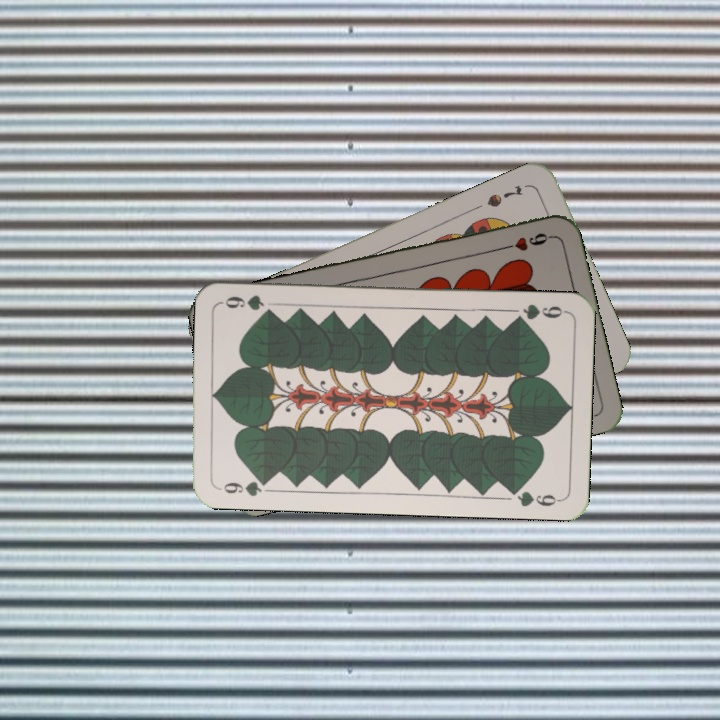G9: (213, 474, 273, 499), (509, 300, 569, 324)
H9: (496, 229, 554, 253)
S7: (482, 181, 525, 210)
